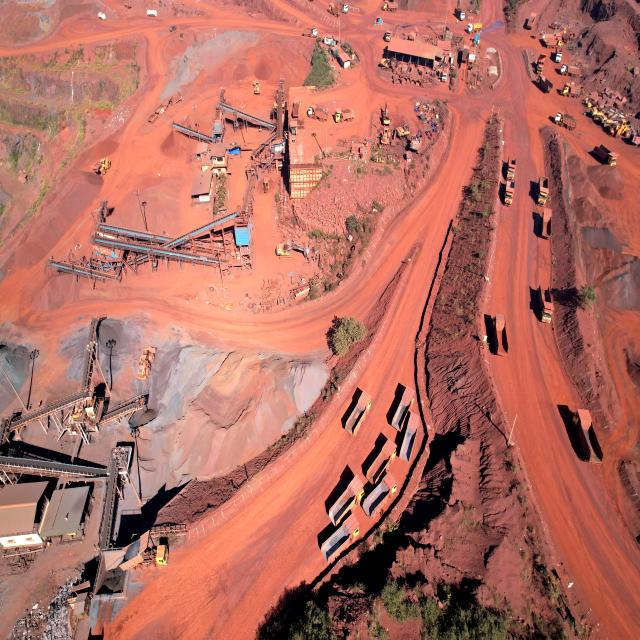Dumper truck: (326, 519, 360, 558), (334, 478, 364, 522), (344, 387, 374, 430), (365, 447, 395, 490), (390, 390, 420, 432), (575, 408, 598, 456), (126, 541, 168, 566), (494, 314, 507, 348), (597, 146, 617, 166), (596, 145, 616, 165), (597, 148, 618, 167), (308, 102, 328, 120), (501, 180, 514, 205), (536, 180, 549, 205), (541, 208, 554, 233), (540, 288, 553, 312), (334, 106, 351, 124), (536, 74, 550, 90), (545, 36, 562, 48), (507, 159, 517, 179), (561, 64, 578, 75), (292, 98, 301, 117), (540, 309, 552, 323), (303, 26, 317, 38), (382, 1, 397, 12), (335, 2, 348, 14), (536, 55, 544, 74), (552, 112, 564, 124), (561, 84, 572, 96), (528, 12, 536, 28), (556, 26, 566, 37), (328, 5, 340, 14), (556, 46, 562, 62), (456, 8, 464, 19)
Excavator: (276, 245, 300, 258), (594, 106, 610, 124), (583, 96, 598, 113), (396, 124, 408, 140), (381, 107, 390, 125)
person: (456, 19, 458, 25)
